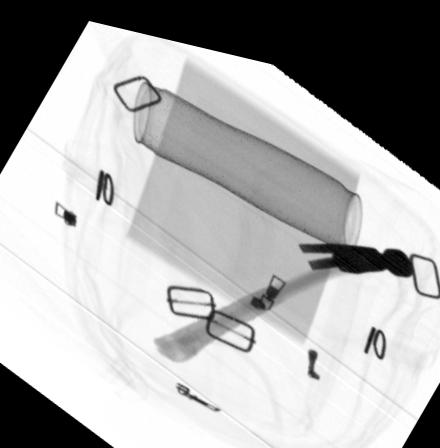Hammer: (149, 225, 415, 354)
